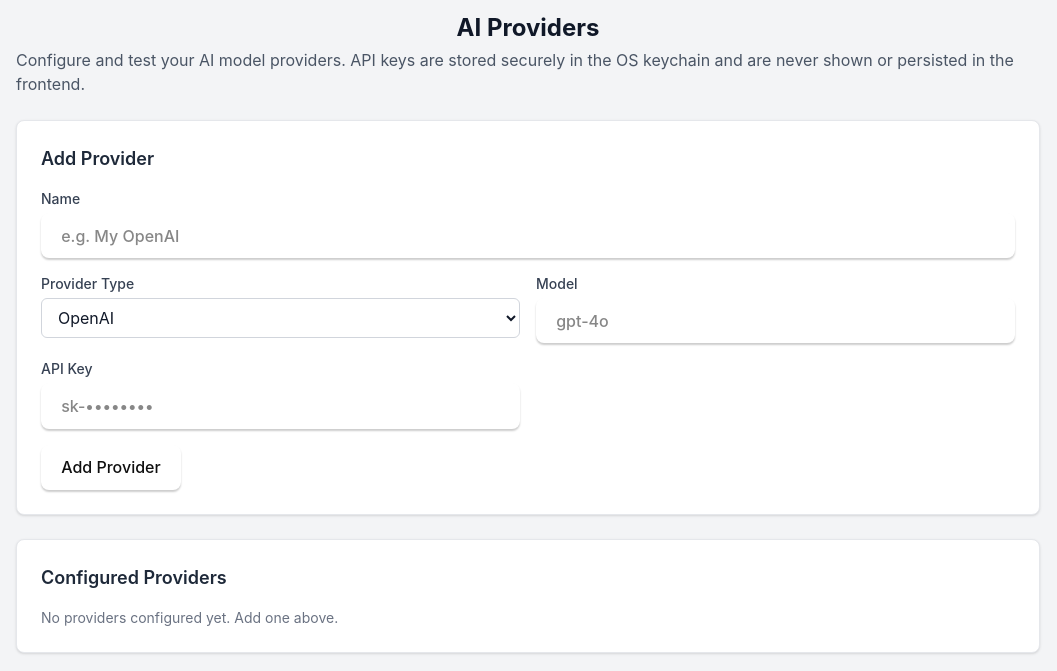
Test: ConfigPage › hides API Key for Ollama, shows API Base
Step 1. Select "Ollama" in the dropdown labelled "Provider Type" → x=280, y=318, box [41,298,520,338]
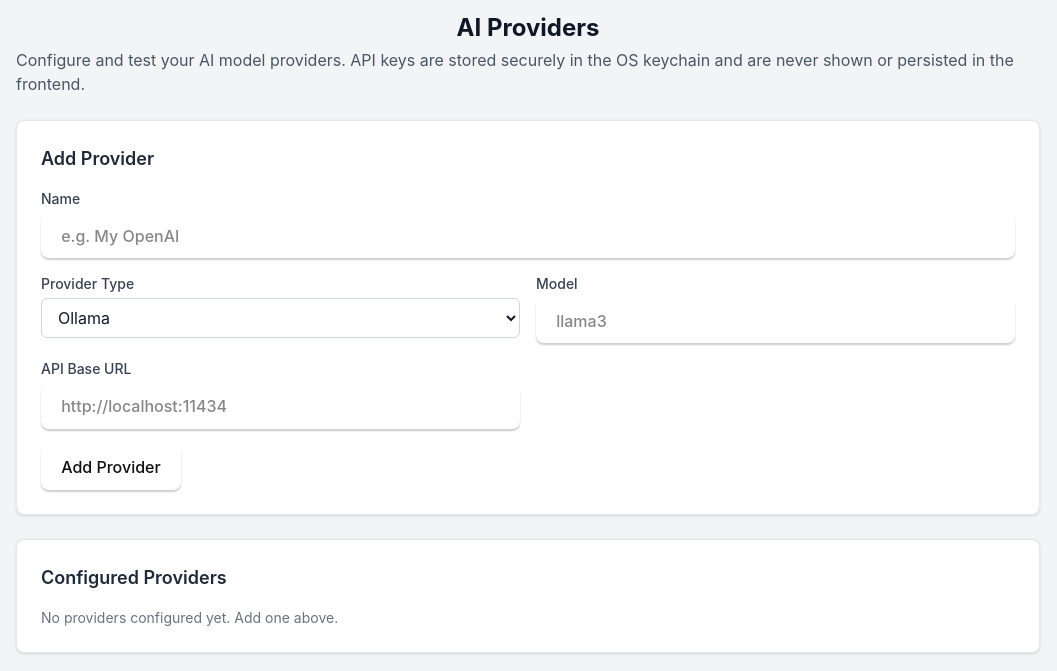
Expected: the field labelled "API Base URL" is shown, [41,383,520,429]
